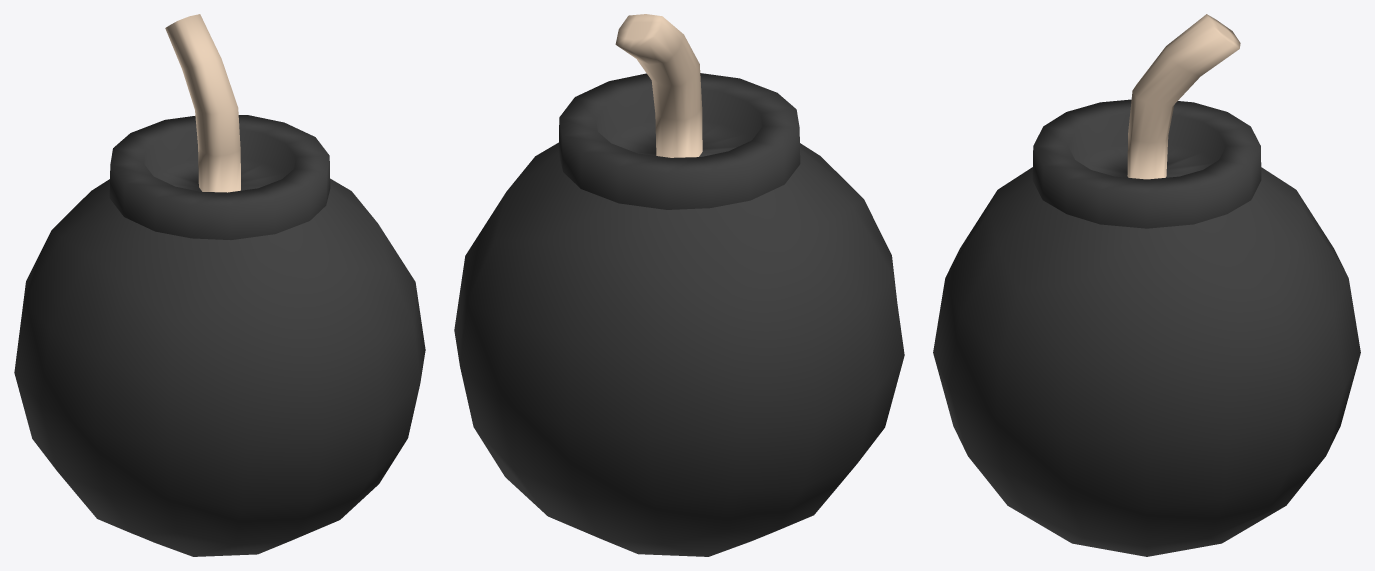
The model's file is BombSmooth.fbx.
3 renders of one model, left to right at view 1: azimuth 30°, elevation 25°; view 2: azimuth 150°, elevation 25°; view 3: azimuth 270°, elevation 25°, orthographic. The views are drawn at different scales.
Parts seen in each view (by area): view 1: BombSmooth; view 2: BombSmooth; view 3: BombSmooth.
Part boxes in pixels (box(x1,y1,x2,y2)): BombSmooth: box(14, 14, 425, 556); BombSmooth: box(454, 14, 904, 556); BombSmooth: box(933, 14, 1360, 556).
Bounding box in the file's own units: 265 × 353 × 265.
